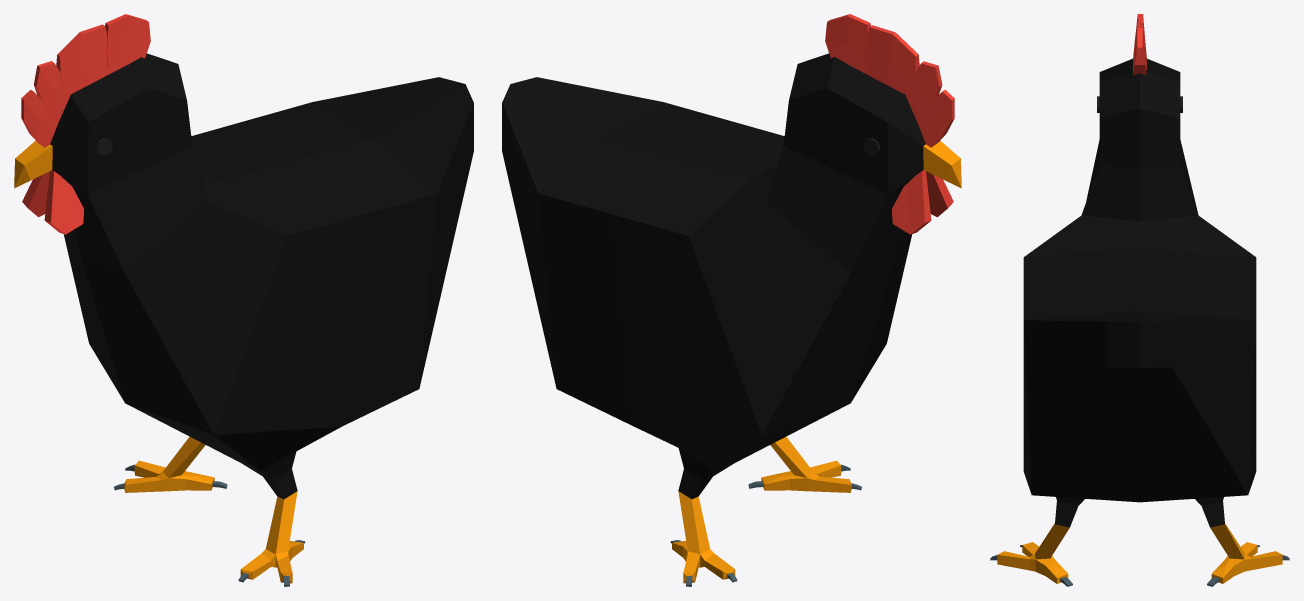
Rendered from Chicken_fixed_rescaled.glb.
3 views of the same model, side by side, from view 1: azimuth 30°, elevation 25°; view 2: azimuth 150°, elevation 25°; view 3: azimuth 270°, elevation 25° (orthographic). The views are drawn at different scales.
Parts seen in each view (by area): view 1: Cube.035_Cube.034_KgxOFr, Cube.035_Cube.034_Kgy9LM, Cube.035_Cube.034_KgycHQ; view 2: Cube.035_Cube.034_KgxOFr, Cube.035_Cube.034_Kgy9LM, Cube.035_Cube.034_KgycHQ; view 3: Cube.035_Cube.034_KgxOFr, Cube.035_Cube.034_KgycHQ, Cube.035_Cube.034_Kgy9LM.
Boxes of the visible parts, x1,y1,x2,y2 form: Cube.035_Cube.034_KgxOFr: (50, 53, 473, 499); Cube.035_Cube.034_Kgy9LM: (21, 14, 150, 234); Cube.035_Cube.034_KgycHQ: (14, 140, 303, 583); Cube.035_Cube.034_KgxOFr: (502, 53, 925, 499); Cube.035_Cube.034_Kgy9LM: (825, 14, 954, 234); Cube.035_Cube.034_KgycHQ: (672, 140, 961, 583); Cube.035_Cube.034_KgxOFr: (1023, 58, 1256, 527); Cube.035_Cube.034_KgycHQ: (997, 523, 1282, 583); Cube.035_Cube.034_Kgy9LM: (1133, 14, 1146, 75).
Size of the model in its own units: 0.0885 by 0.1 by 0.0547.
